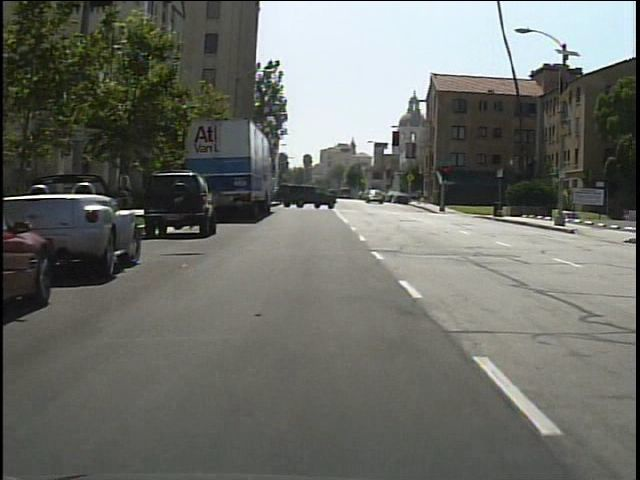person: (415, 188, 425, 210)
